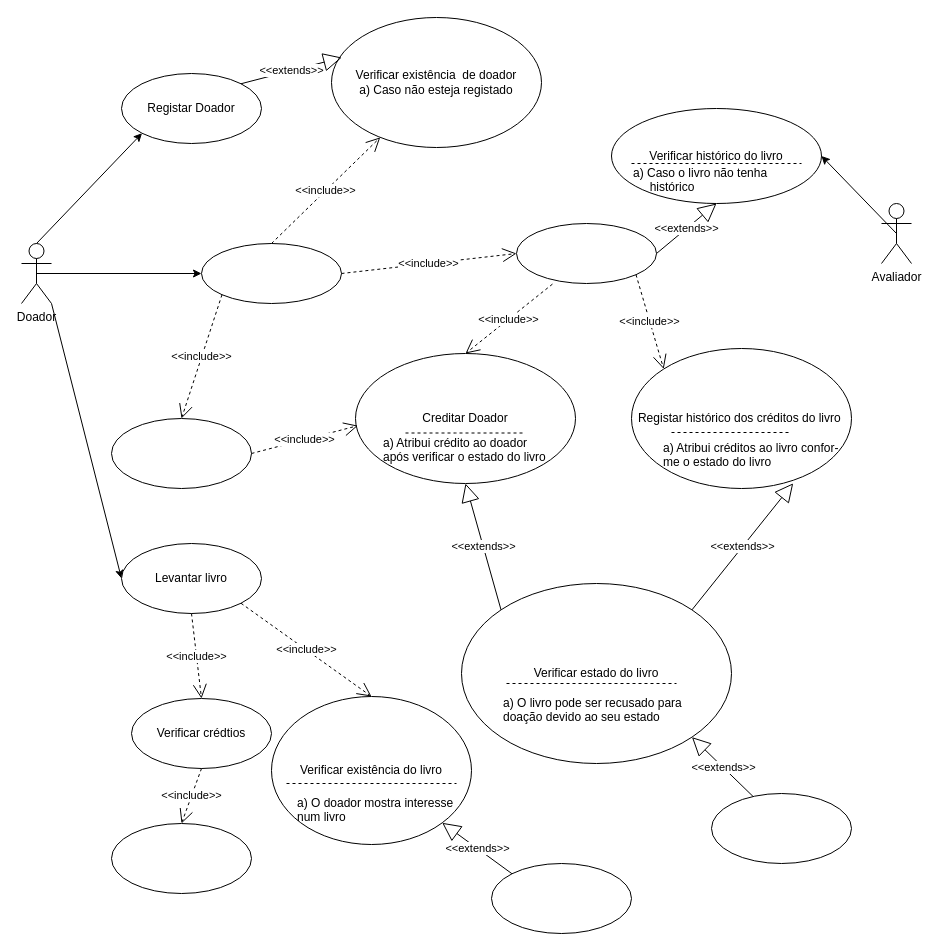
This 939x951 diagram has some shape labels left out. The shapes that lost their labels are listed below. From the top down, each one's centre as x and y in pixels, then its label:
At [271,273]: "Doar livro".
At [586,253]: "Avaliar livro".
At [181,453]: "Receber créditos".
At [781,828]: "Devolver livro ao Doador".
At [181,858]: "Procurar Doador".
At [561,898]: "Receber notificação".
